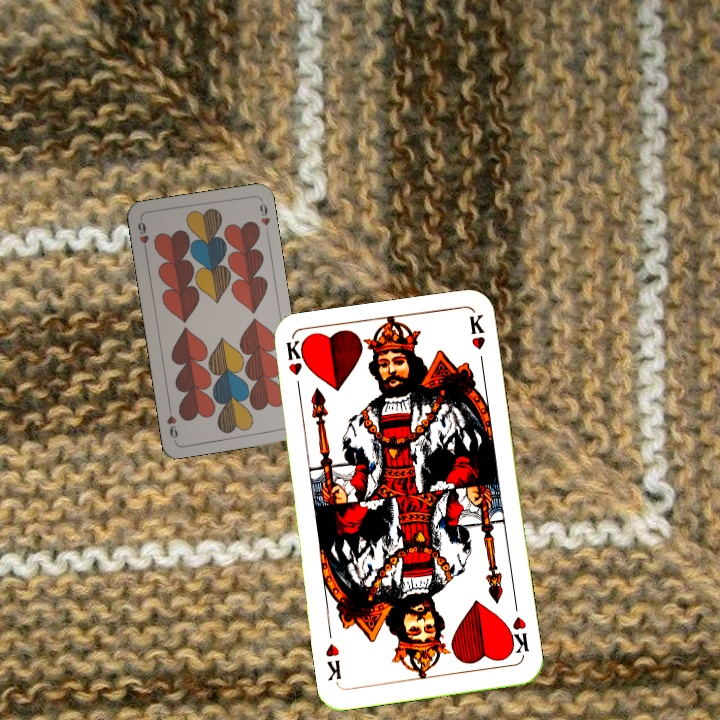H9: (134, 216, 151, 256)
HK: (282, 338, 305, 397), (503, 613, 532, 659)
